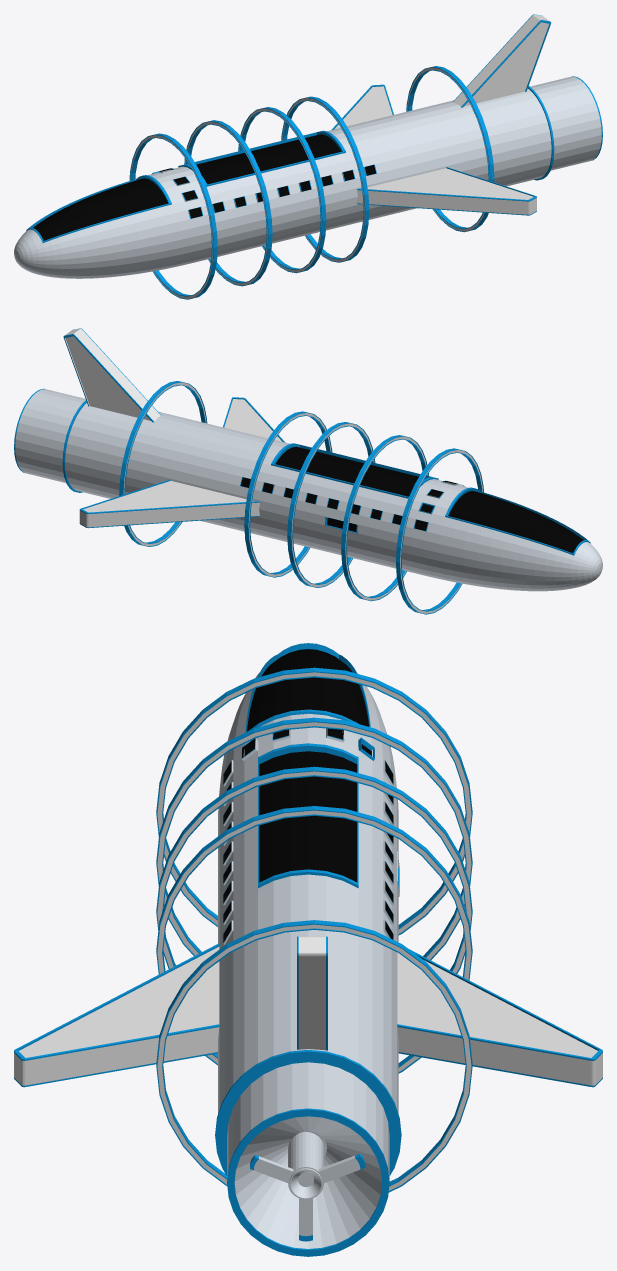
Rendered from Spaceship.fbx.
3 renders of one model, top to bottom at view 1: azimuth 30°, elevation 25°; view 2: azimuth 150°, elevation 25°; view 3: azimuth 270°, elevation 25°, orthographic. The views are drawn at different scales.
Visible parts, largest first — view 1: Cylinder.006, Cube.011, Cube.008, Cylinder.011, Cylinder.009, Cylinder.007, Cylinder.008, Cylinder.010, Cube.009; view 2: Cylinder.006, Cube.009, Cube.008, Cylinder.011, Cylinder.009, Cylinder.008, Cylinder.007, Cylinder.010, Cube.011; view 3: Cylinder.006, Cube.011, Cube.009, Cylinder.010, Cylinder.011, Cylinder.007, Cylinder.009, Cylinder.008, Cube.008.
Boxes of the visible parts, x1,y1,x2,y2 form: Cylinder.006: (14, 76, 602, 278); Cube.011: (357, 167, 536, 215); Cube.008: (453, 14, 551, 107); Cylinder.011: (129, 133, 217, 299); Cylinder.009: (281, 96, 369, 262); Cylinder.007: (184, 120, 272, 286); Cylinder.008: (238, 107, 326, 273); Cylinder.010: (406, 66, 494, 232); Cube.009: (331, 84, 393, 129); Cylinder.006: (14, 388, 602, 591); Cube.009: (79, 479, 259, 528); Cube.008: (63, 328, 161, 422); Cylinder.011: (396, 448, 483, 614); Cylinder.009: (244, 411, 332, 577); Cylinder.008: (287, 422, 375, 587); Cylinder.007: (341, 435, 428, 601); Cylinder.010: (119, 381, 207, 546); Cube.011: (223, 397, 285, 442); Cylinder.006: (215, 643, 401, 1256); Cube.011: (14, 943, 219, 1087); Cube.009: (397, 949, 602, 1087); Cylinder.010: (156, 920, 472, 1192); Cylinder.011: (156, 667, 472, 935); Cylinder.007: (156, 717, 472, 960); Cylinder.009: (156, 806, 472, 1073); Cylinder.008: (156, 766, 472, 973); Cube.008: (297, 936, 327, 1050).
Size of the model in its own units: 5405 by 1714 by 2608.
